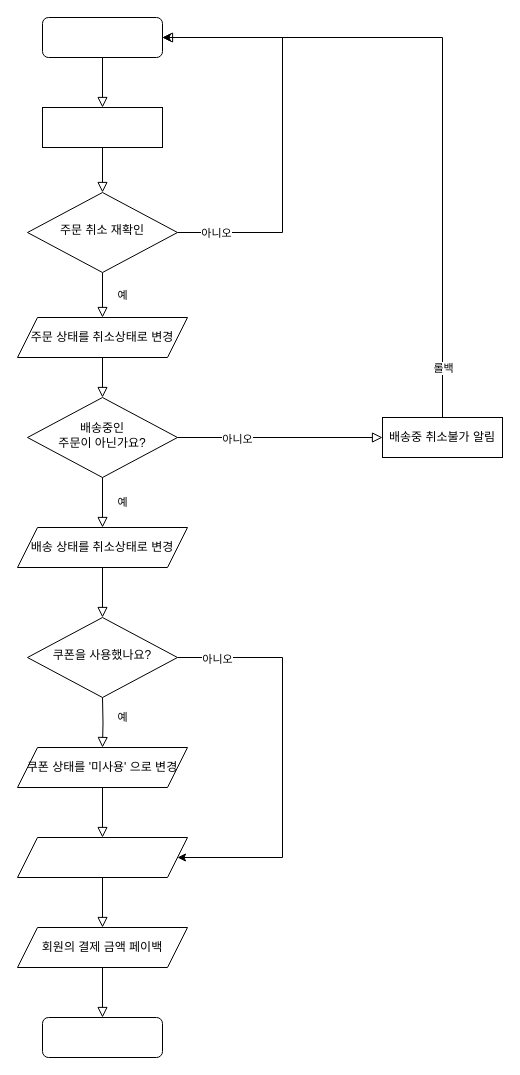
Some shapes in this 520 by 1075 pixel diagram are drawn without their labels. Each missing label, with the centre of its shape:
상품 수량 원상복구: point 102,857
주문 상세 화면: point 102,37
주문 취소: point 102,127
주문 취소 완료: point 102,1037
